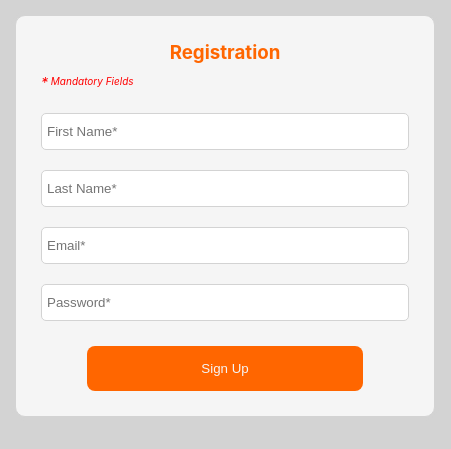
Test case: Registration component › validations for sign up › should validate all required fields
Click the button with test id "submit" at (225, 369), box [87,346,363,391]
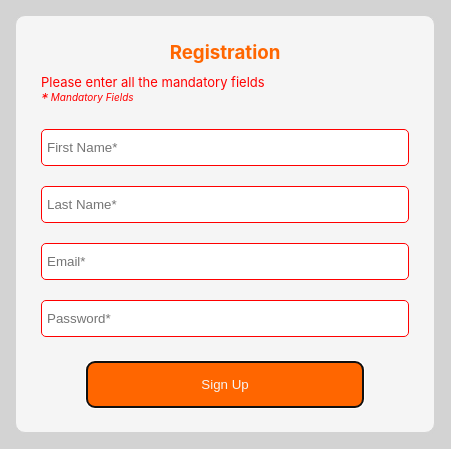
Check: the text "Please enter all the mandatory fields" is shown, box [41,74,265,90]
